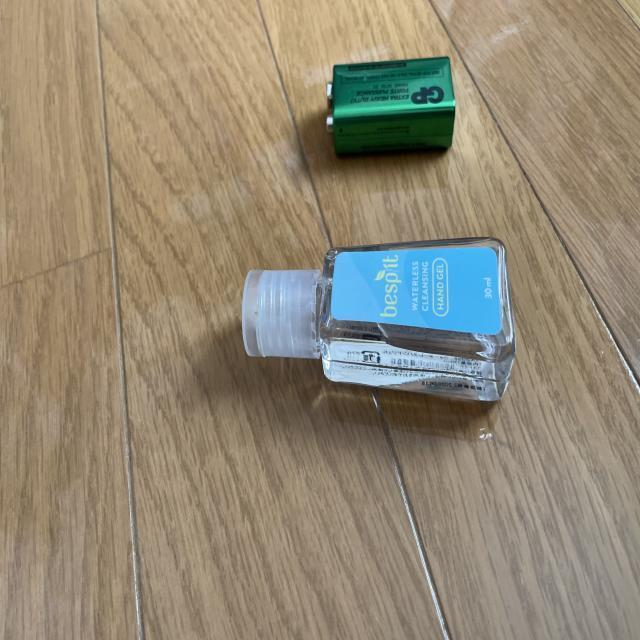9V: (324, 56, 456, 158)
